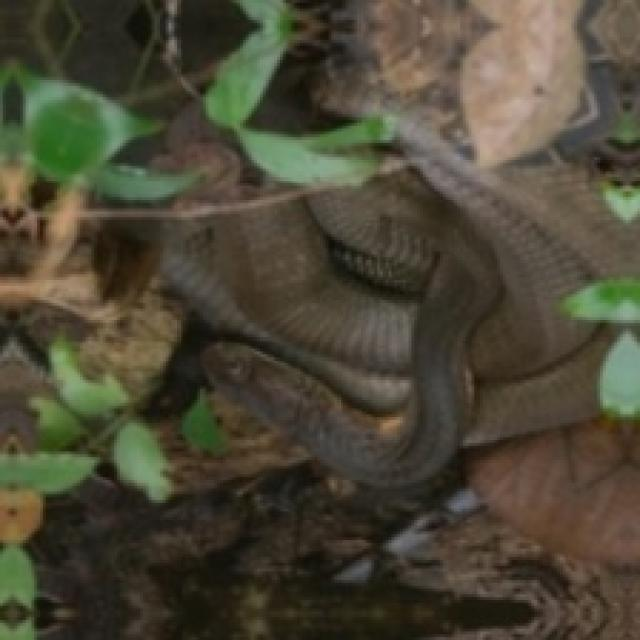king cobra: (163, 123, 637, 486)
